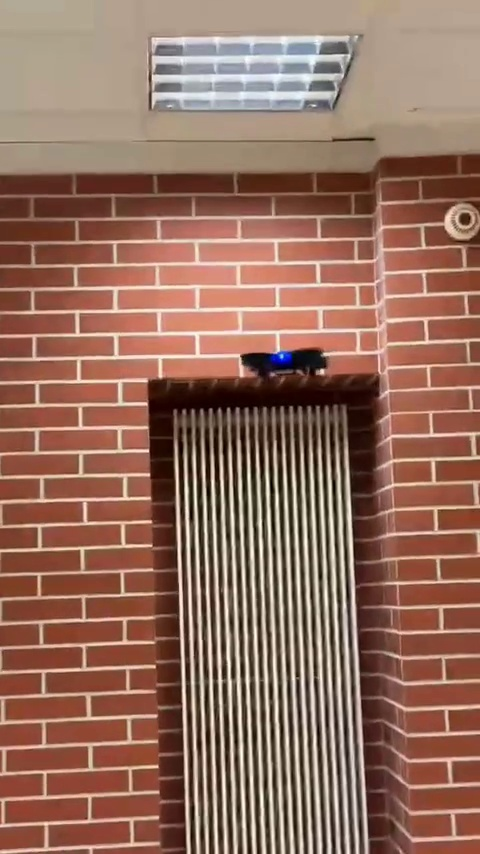drone: (240, 351, 327, 376)
